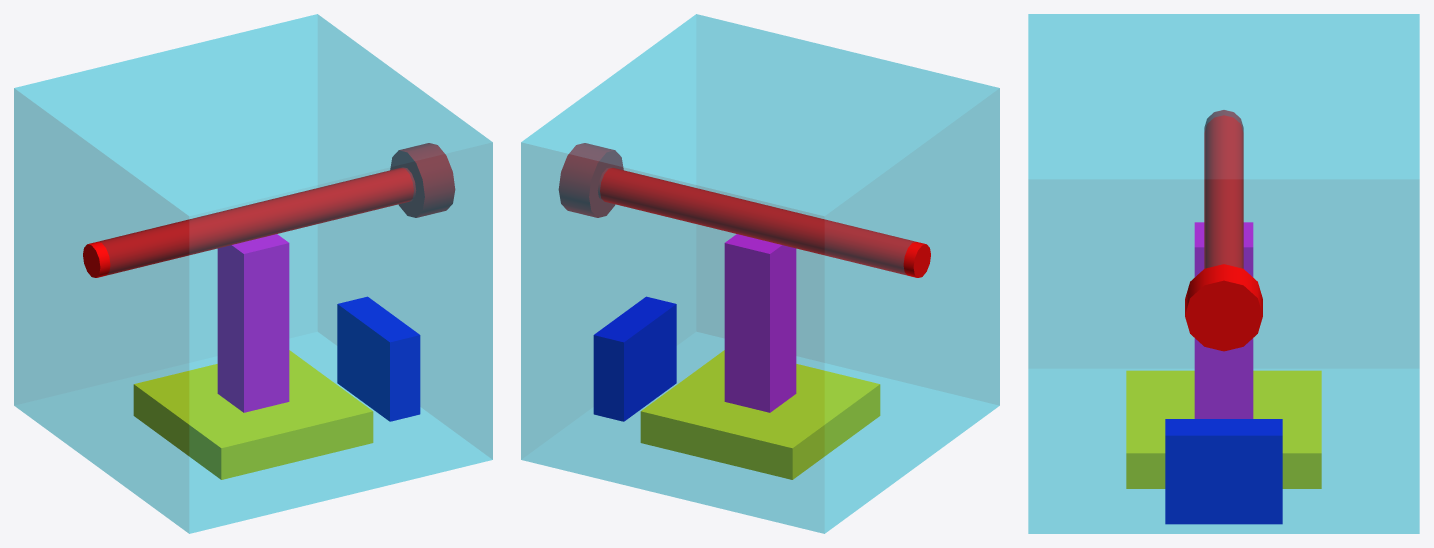
The model's file is cubo-transparente.glb.
The picture shows the model from 3 angles, left to right: view 1: azimuth 30°, elevation 25°; view 2: azimuth 150°, elevation 25°; view 3: azimuth 270°, elevation 25°; orthographic projection. The views are drawn at different scales.
Parts seen in each view (by area): view 1: carcasa, Pieza_A, Pieza_D, Pieza_B, Pieza_C; view 2: carcasa, Pieza_A, Pieza_D, Pieza_B, Pieza_C; view 3: carcasa, Pieza_C, Pieza_A, Pieza_D, Pieza_B.
Part boxes in pixels (bbox=[...]): carcasa: bbox=[14, 14, 492, 533]; Pieza_A: bbox=[133, 350, 373, 479]; Pieza_D: bbox=[83, 143, 455, 277]; Pieza_B: bbox=[217, 234, 289, 412]; Pieza_C: bbox=[337, 296, 420, 421]; carcasa: bbox=[521, 14, 999, 533]; Pieza_A: bbox=[640, 350, 880, 479]; Pieza_D: bbox=[558, 143, 930, 277]; Pieza_B: bbox=[724, 234, 796, 412]; Pieza_C: bbox=[593, 296, 676, 421]; carcasa: bbox=[1028, 14, 1419, 533]; Pieza_C: bbox=[1165, 419, 1282, 524]; Pieza_A: bbox=[1126, 370, 1321, 488]; Pieza_D: bbox=[1185, 110, 1262, 351]; Pieza_B: bbox=[1194, 222, 1253, 418].
Size of the model in its own units: 0.5793 by 0.508 by 0.508.
